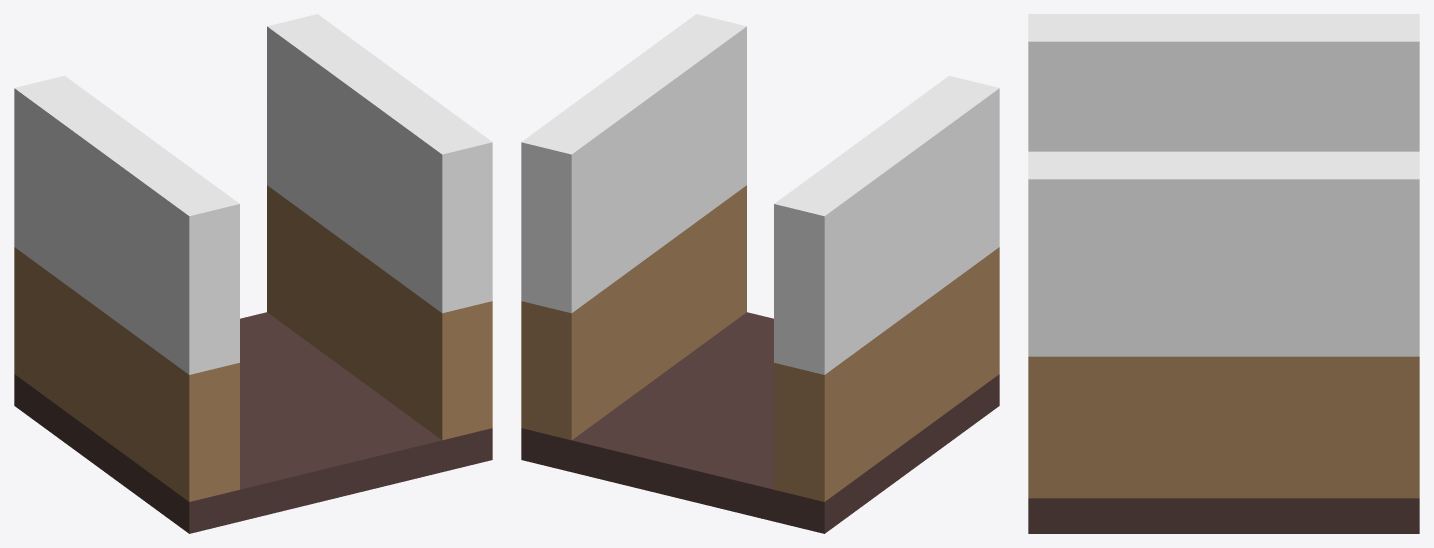
Rendered from corridor.FBX.
3 views of the same model, side by side, from view 1: azimuth 30°, elevation 25°; view 2: azimuth 150°, elevation 25°; view 3: azimuth 270°, elevation 25° (orthographic). The views are drawn at different scales.
Visible parts, largest first — view 1: Object259; view 2: Object259; view 3: Object259.
Part boxes in pixels (<box>): Object259: <box>14,14,492,533</box>; Object259: <box>521,14,999,533</box>; Object259: <box>1028,14,1419,533</box>.
Bounding box in the file's own units: 100 × 100 × 100.
